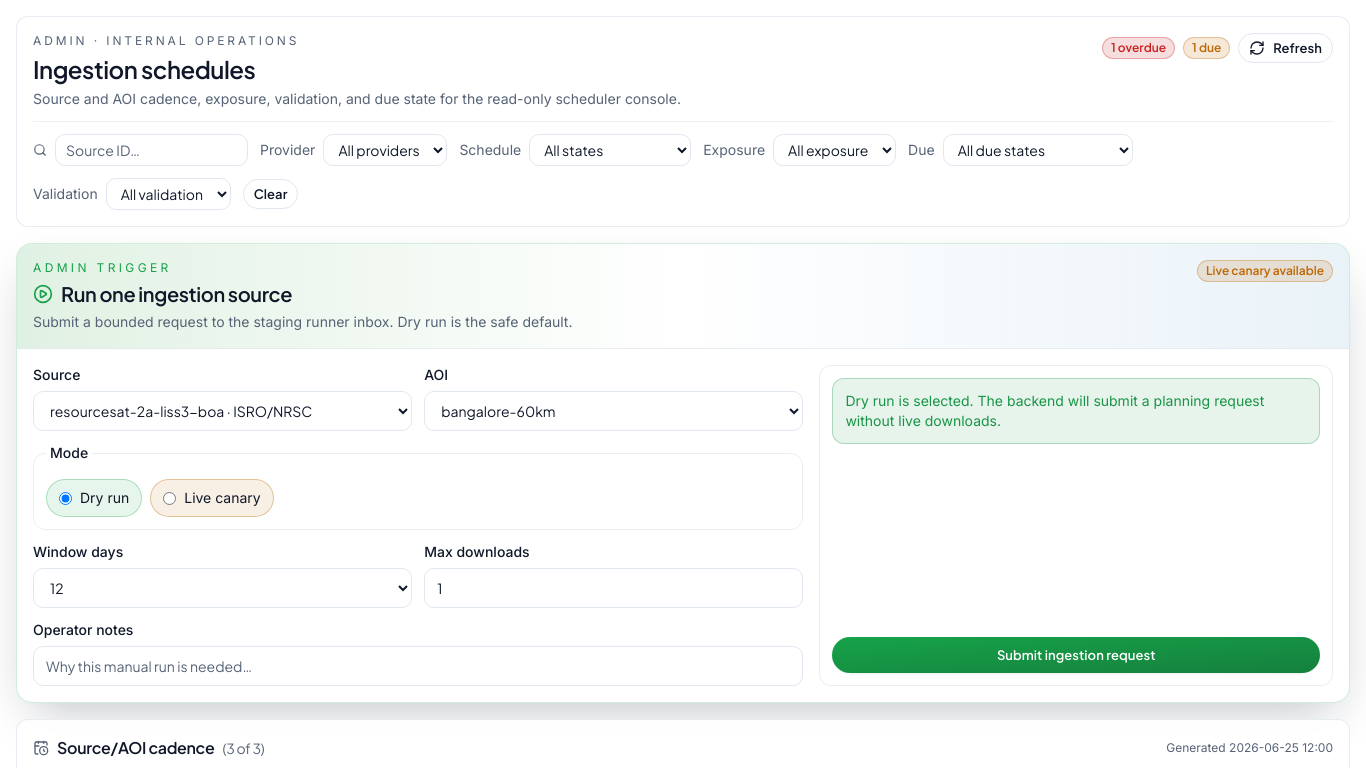
Test: IngestionSchedules › gates live canary submit until the checkbox and typed acknowledgment are complete
The image size is (1366, 768).
Click the radio button labelled "Live canary".
click(170, 498)  # box [163,492,176,504]
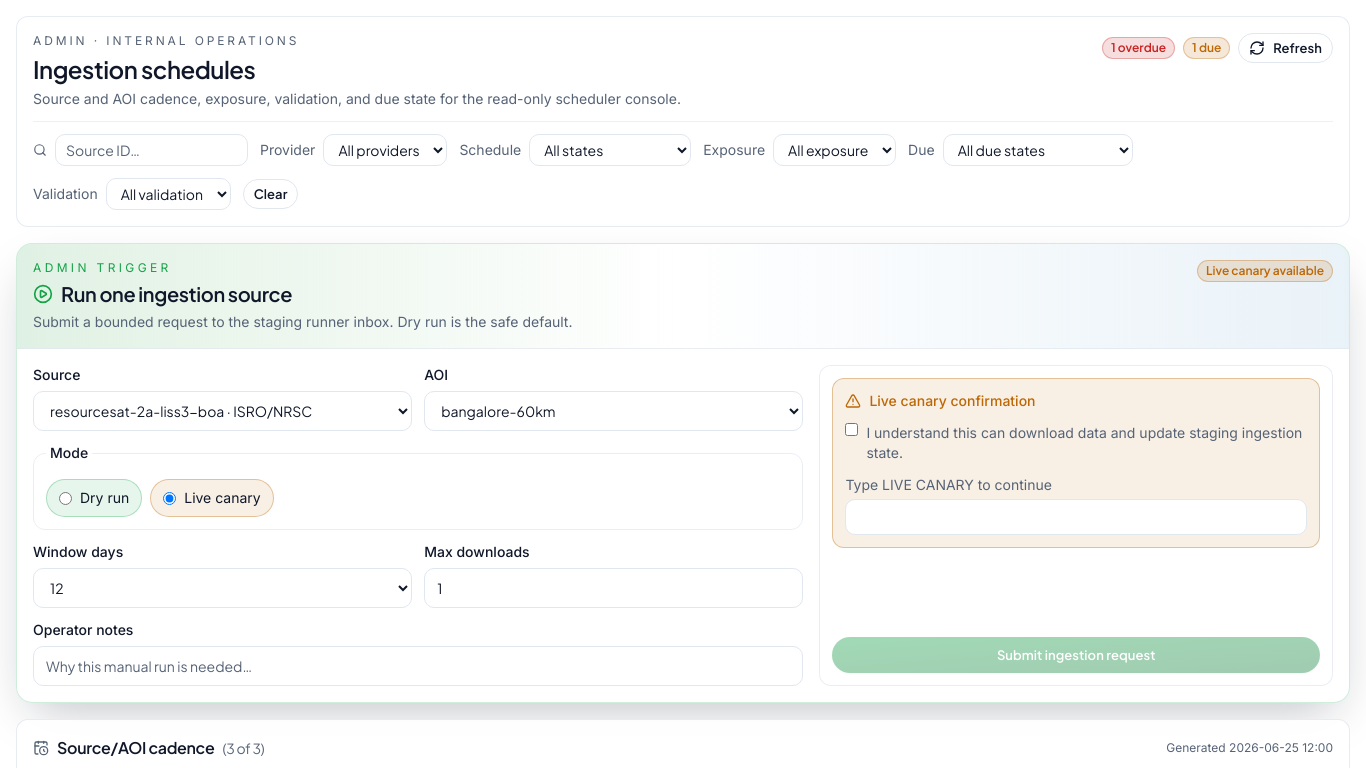
Check: the button "Submit ingestion request" is disabled, box [832,637,1320,673]
Click the checkbox named "Confirm live ingestion side effects".
click(852, 430)  # box [845,423,858,436]
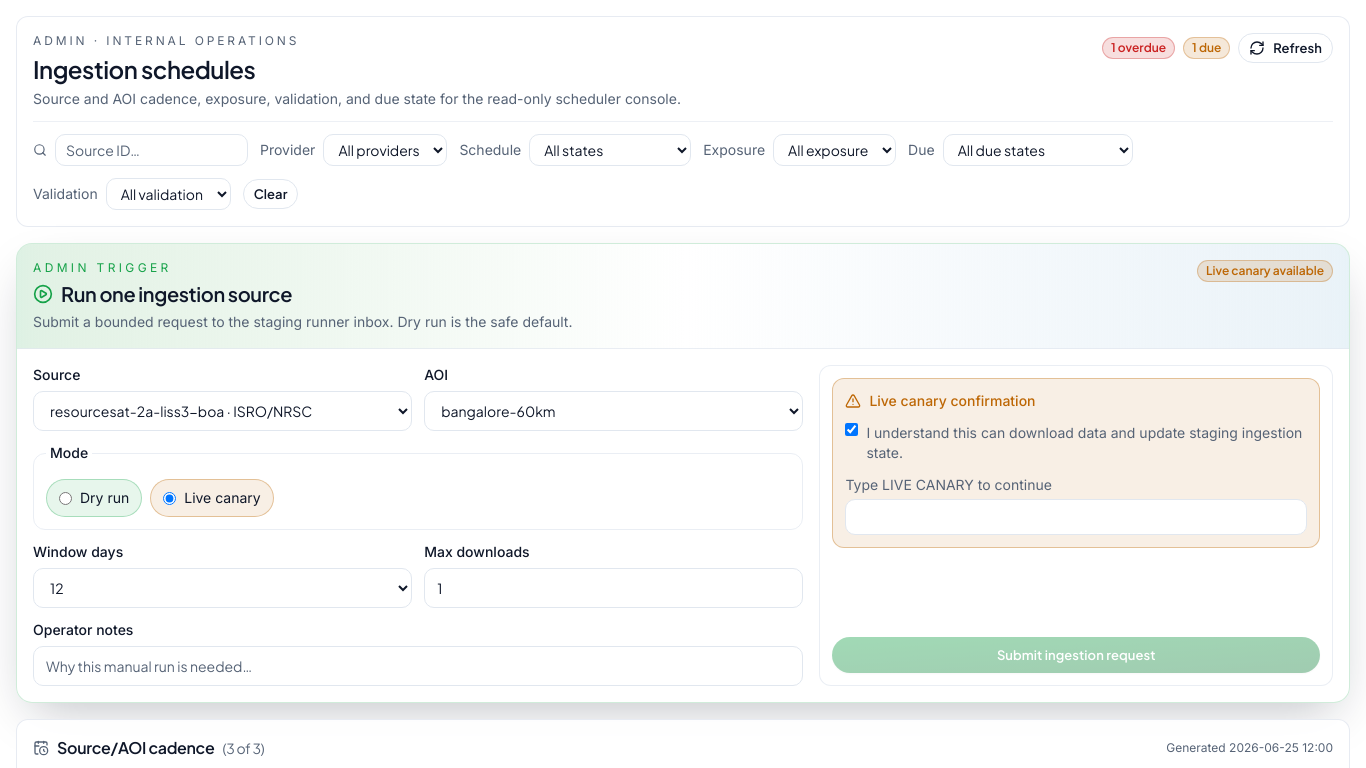
Type "LIVE CANARY" into the field named "Live canary acknowledgment".
click(1076, 517); type("LIVE CANARY")  # box [845,499,1307,535]
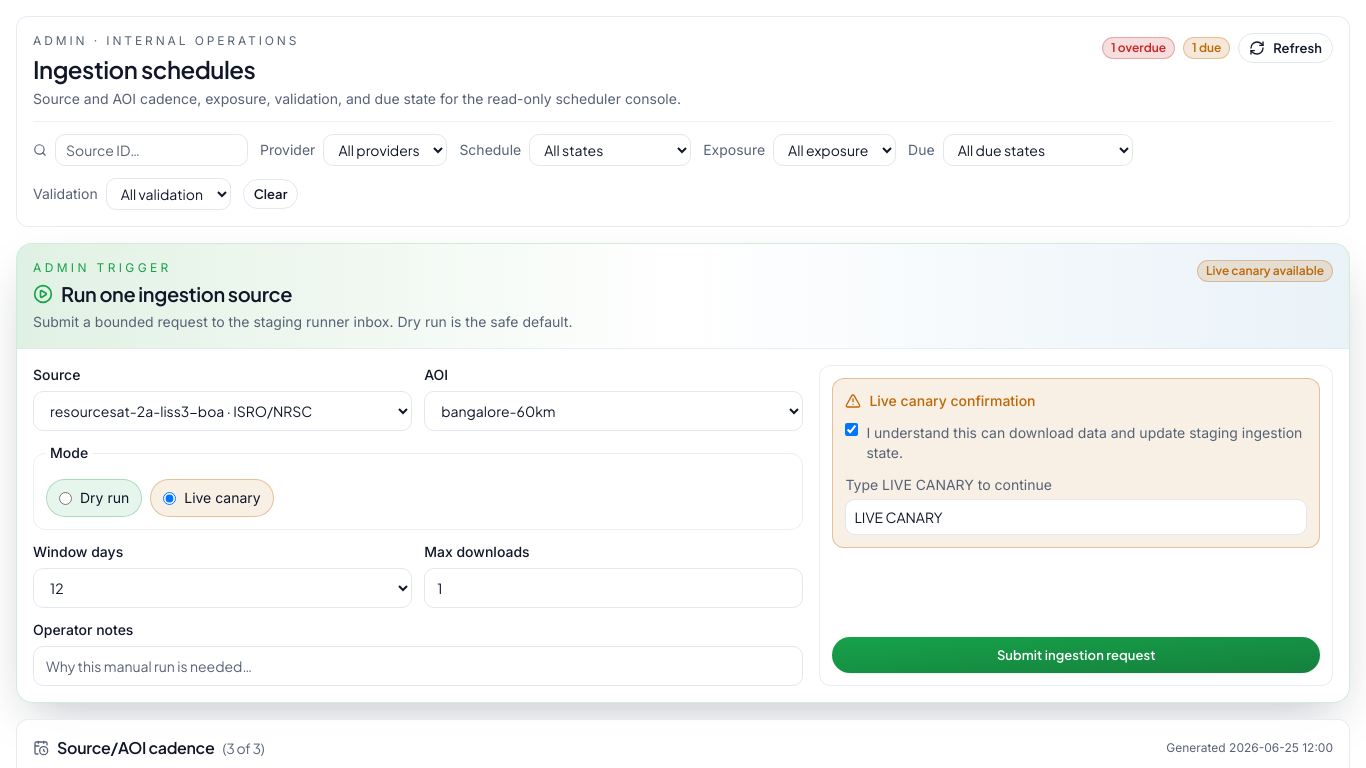
Check: the button "Submit ingestion request" is enabled, box [832,637,1320,673]
